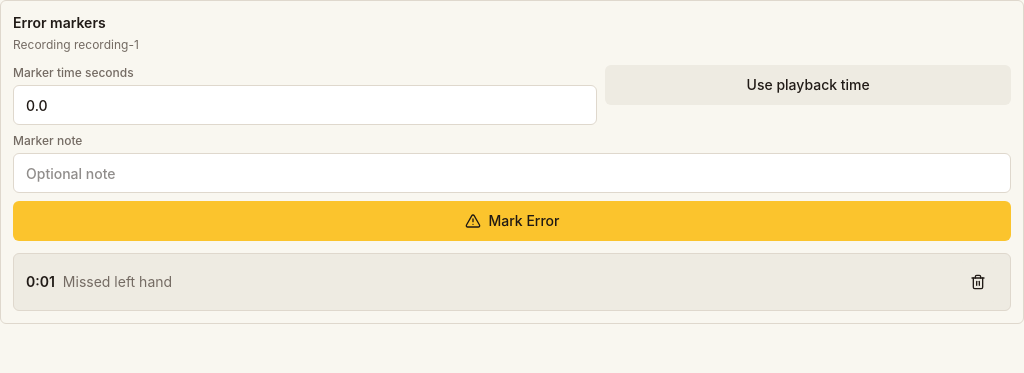
Test: ErrorMarkerPanel › shows a recoverable error when playback seek throws instead of fake success
What coordinates should you click on to do the following:
click the button with aria-label "Seek to marker 0:01"
I would click on:
 (117, 282)
Its box is [26,262,950,302].
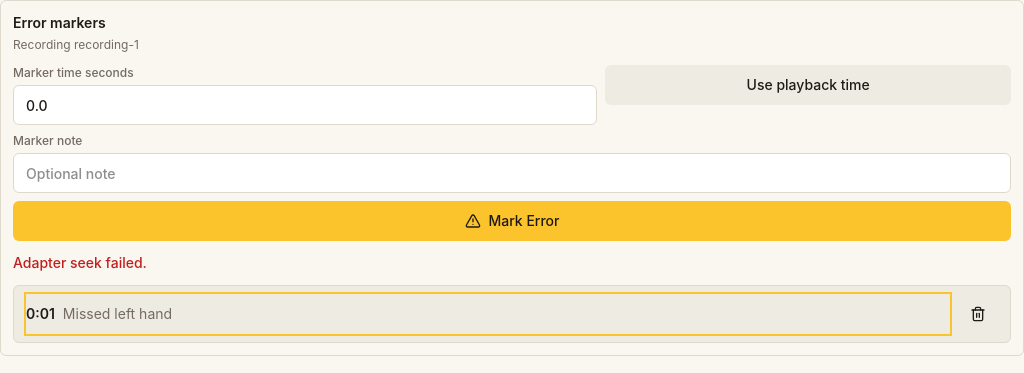
Now the message reads "Adapter seek failed.", box [13,254,147,271]
